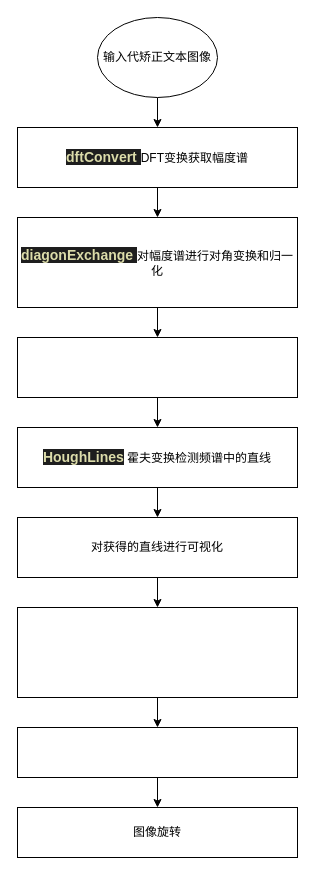
The diagram is 315 pixels wide and 875 high, and some of its shapes have lost their labels. The centre of each missing label's shape, as x and y in pixels:
"对角度集合求平均值作为旋转角度" belongs at (157,752).
"幅度谱二值化" belongs at (157,367).
"设定最小旋转角度，对每条直线的极坐标角度进行筛选，得到可能的旋转角度集合，并对角度进行矫正" belongs at (157,652).
